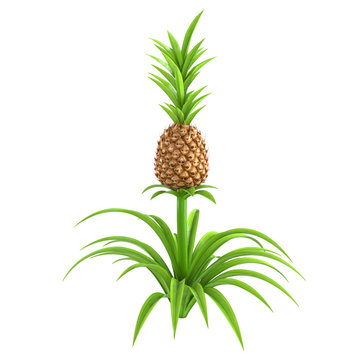Pineapple: (151, 21, 211, 190)
